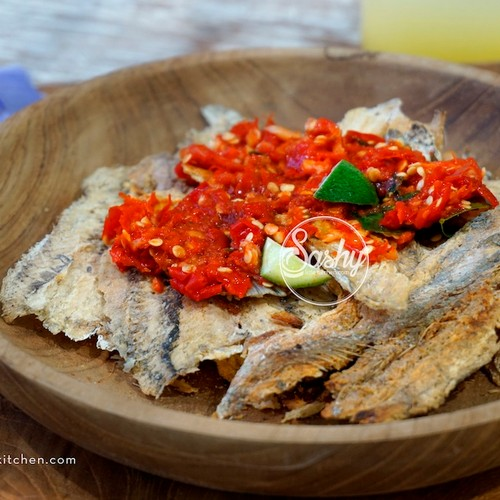sudang lepet: (41, 94, 495, 397)
